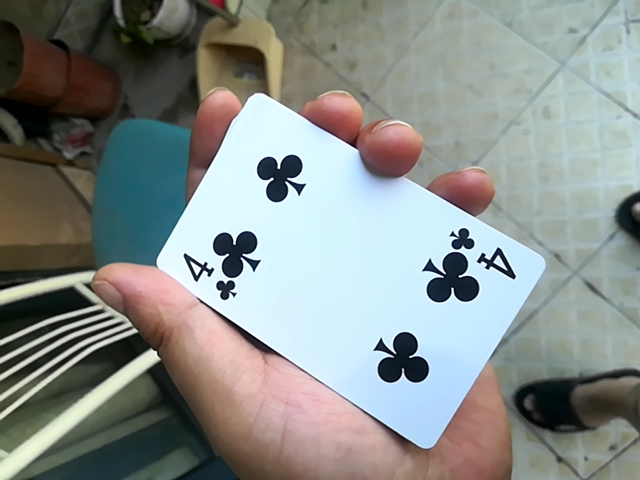mh 4: (144, 89, 546, 458)
